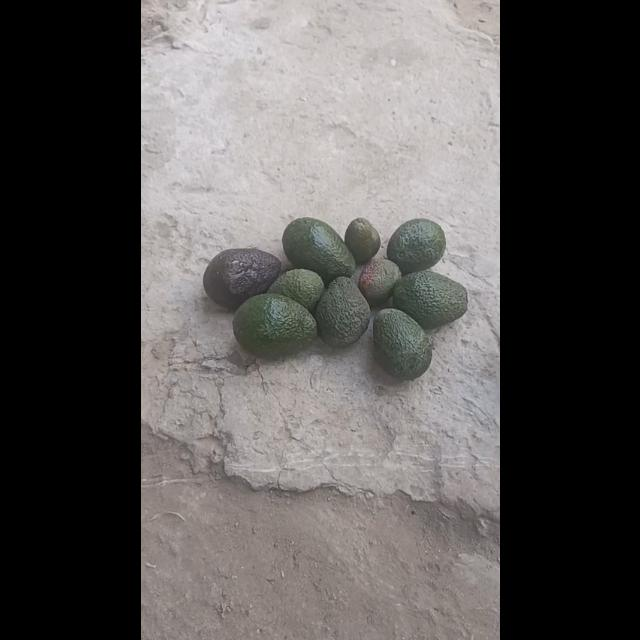Primera: (232, 292, 316, 358), (281, 216, 355, 284), (202, 248, 280, 310), (391, 269, 467, 329), (371, 307, 431, 379), (314, 275, 371, 347)
Segunda: (386, 218, 446, 274), (266, 266, 324, 312)
Tercera: (357, 258, 401, 306), (344, 218, 380, 262)
